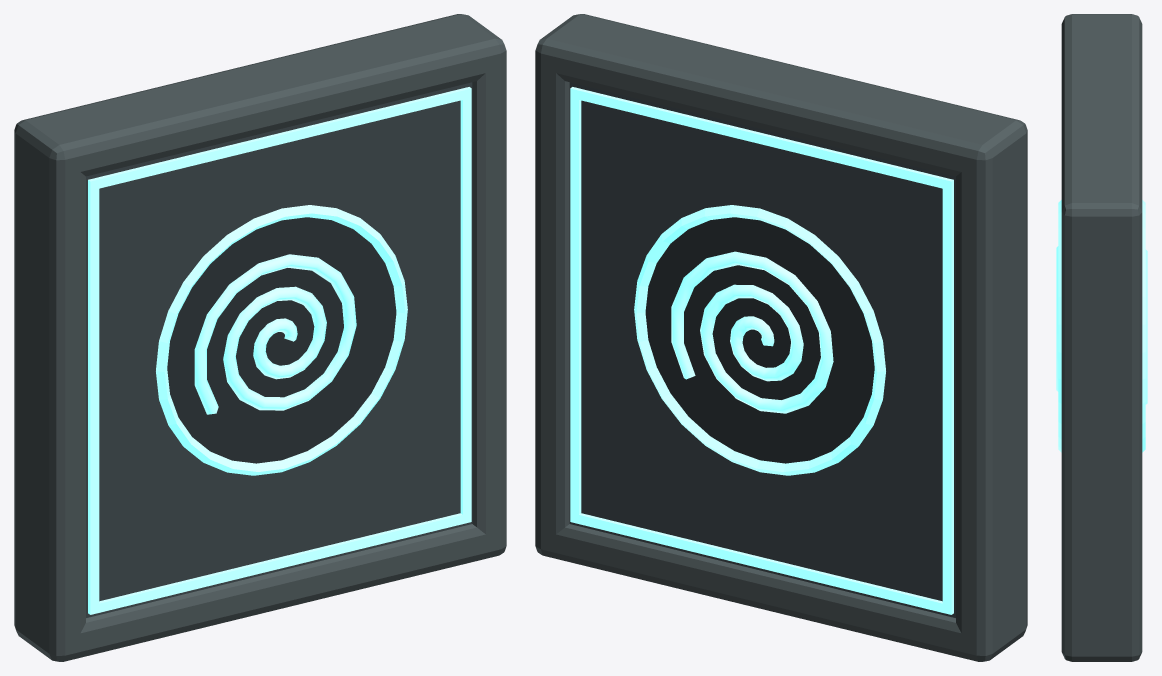
Rendered from wind_stone_gate_slab.glb.
The picture shows the model from 3 angles, left to right: view 1: azimuth 30°, elevation 25°; view 2: azimuth 150°, elevation 25°; view 3: azimuth 270°, elevation 25°; orthographic projection. The views are drawn at different scales.
Visible parts, largest first — view 1: WindGate_Slab; view 2: WindGate_Slab; view 3: WindGate_Slab.
Boxes of the visible parts, x1,y1,x2,y2 form: WindGate_Slab: [14, 14, 506, 661]; WindGate_Slab: [535, 14, 1027, 661]; WindGate_Slab: [1056, 14, 1147, 661].
Size of the model in its own units: 3.6 by 3.9 by 0.704.
